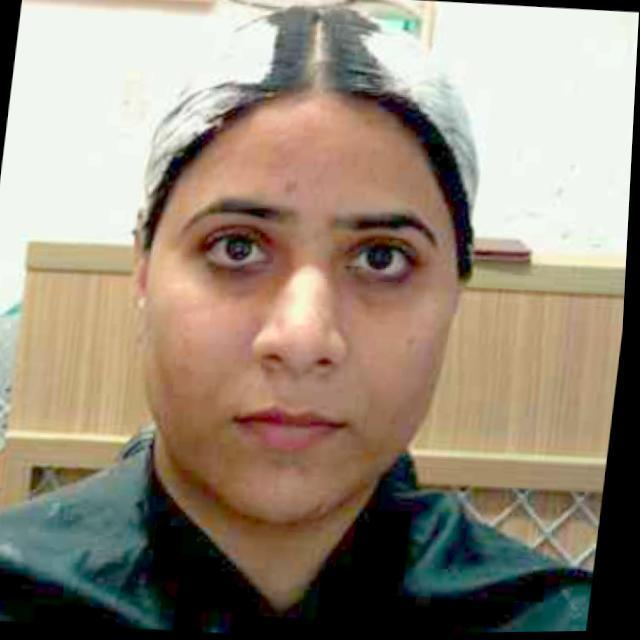puffy_eyes: (203, 246, 292, 293), (344, 271, 428, 309)
